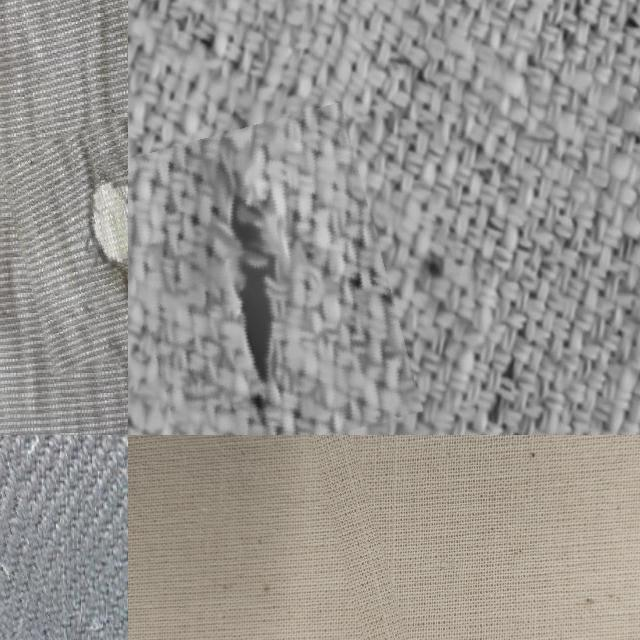Thread_other: (336, 435, 438, 640), (0, 435, 80, 640)
seam: (128, 115, 404, 435), (8, 112, 128, 364)
